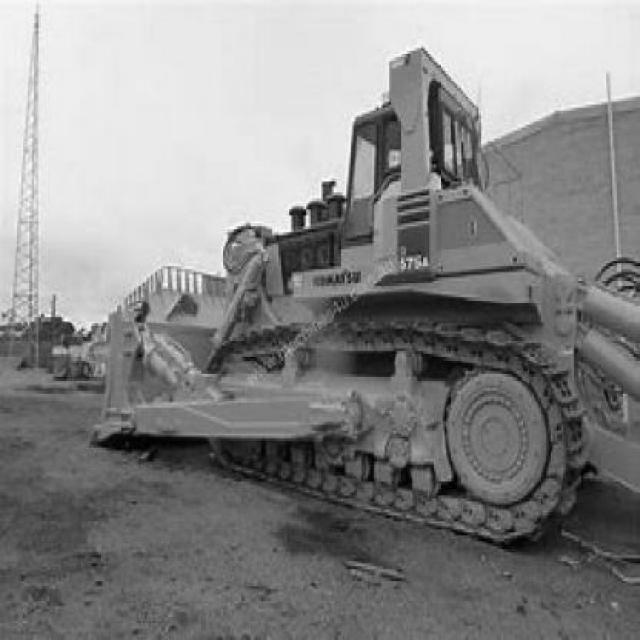Construction Equipment: (89, 46, 640, 547)
